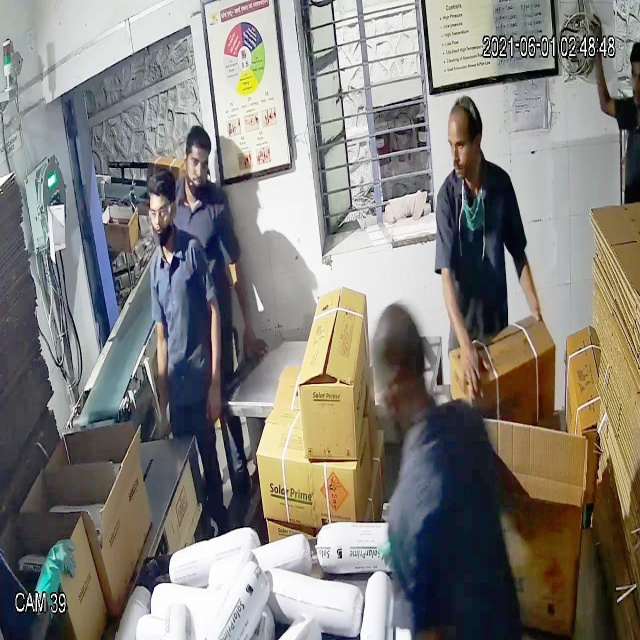Gafas: (144, 200, 176, 231)
Sin_gafas: (441, 131, 488, 165), (183, 148, 214, 179)
